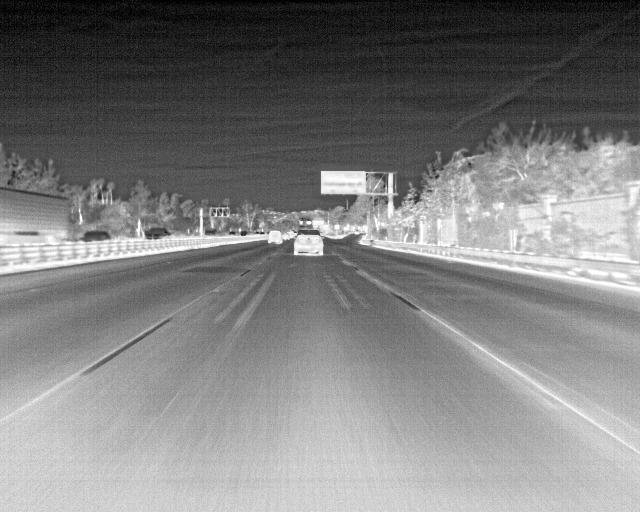car: (293, 228, 323, 255), (79, 229, 110, 241), (145, 226, 169, 240), (268, 229, 282, 243)
